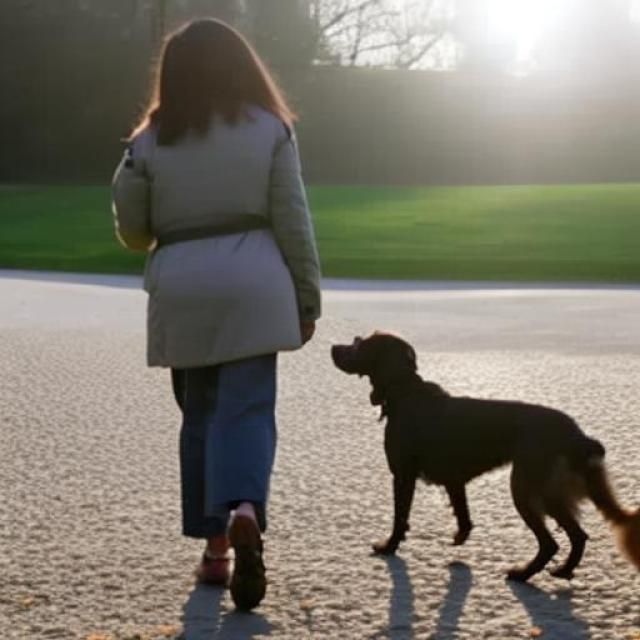Unleashed_Dog: (171, 330, 640, 610)
